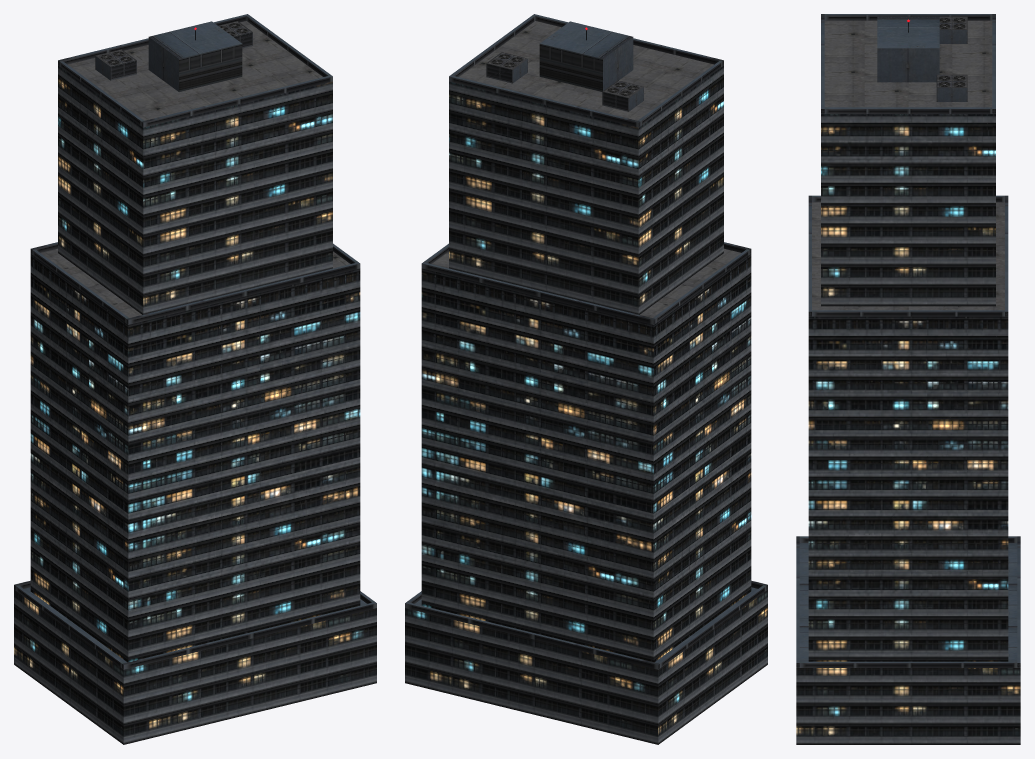
The model's file is commercial-wide-slab-01.glb.
The picture shows the model from 3 angles, left to right: view 1: azimuth 30°, elevation 25°; view 2: azimuth 150°, elevation 25°; view 3: azimuth 270°, elevation 25°; orthographic projection. The views are drawn at different scales.
Visible parts, largest first — view 1: commercial-wide-slab-01; view 2: commercial-wide-slab-01; view 3: commercial-wide-slab-01.
Boxes of the visible parts, x1,y1,x2,y2 form: commercial-wide-slab-01: [14, 14, 376, 744]; commercial-wide-slab-01: [405, 14, 767, 744]; commercial-wide-slab-01: [796, 14, 1020, 744].
Size of the model in its own units: 48 by 117 by 36.
1 material, 1 textured.
